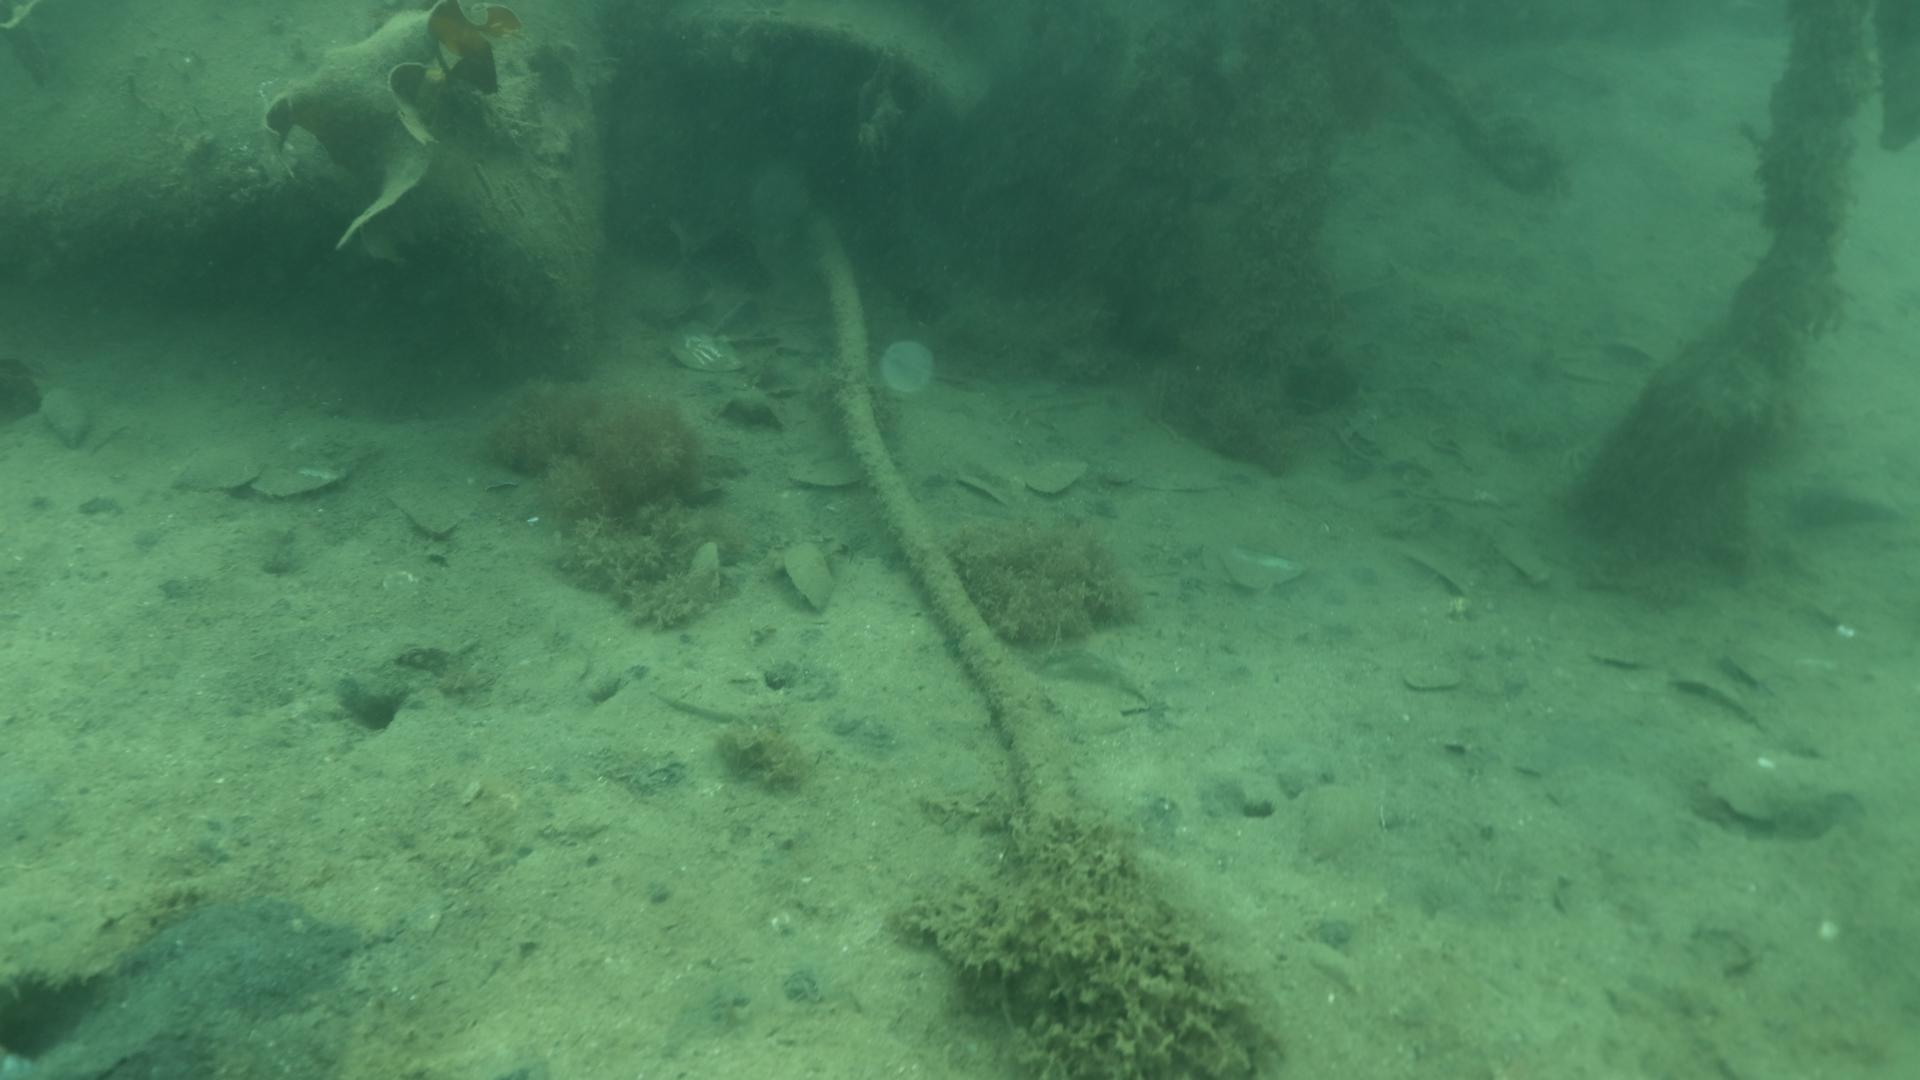rope: (795, 189, 1077, 816)
